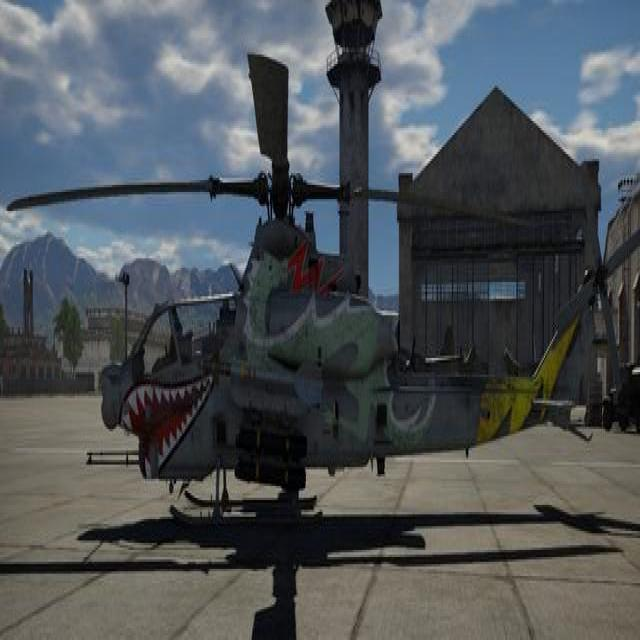MIL_HELO: (4, 44, 640, 560)
